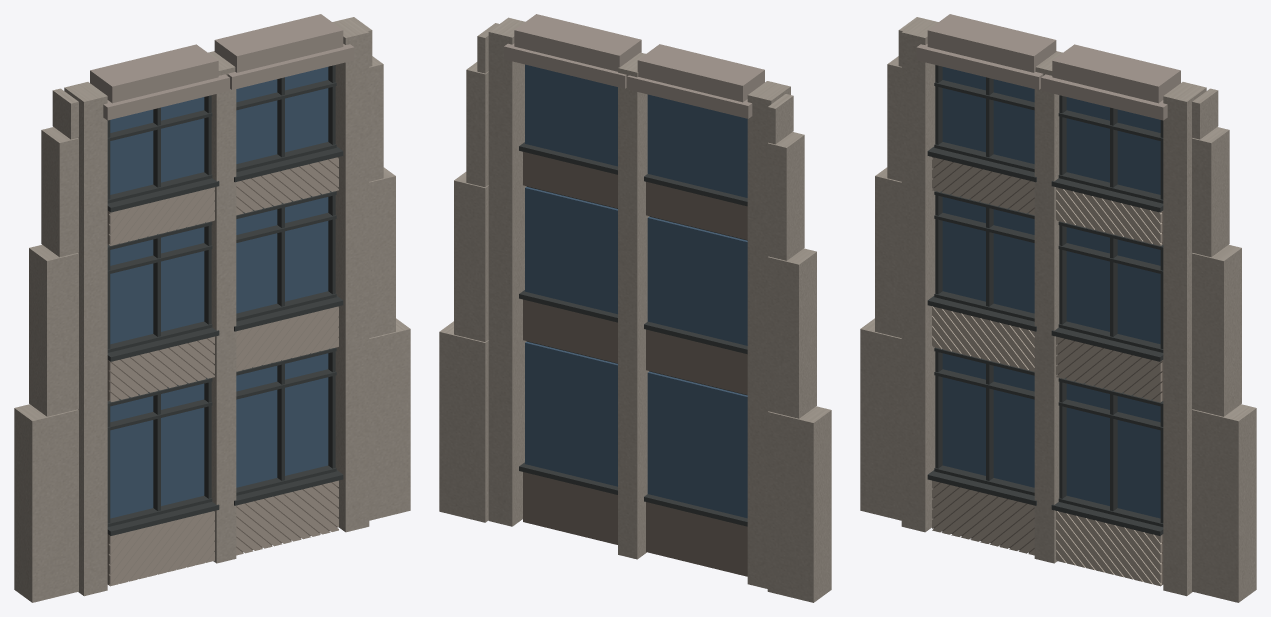
File: huangpu-lawyers-club-chevron-spandrels-lod.glb
3 views of the same model, side by side, from view 1: azimuth 30°, elevation 25°; view 2: azimuth 150°, elevation 25°; view 3: azimuth 330°, elevation 25° (orthographic).
Visible parts, largest first — view 1: 上海律师公会会所双列钢窗与人字纹窗裙; view 2: 上海律师公会会所双列钢窗与人字纹窗裙; view 3: 上海律师公会会所双列钢窗与人字纹窗裙.
Part boxes in pixels (<box>): 上海律师公会会所双列钢窗与人字纹窗裙: <box>14,14,410,602</box>; 上海律师公会会所双列钢窗与人字纹窗裙: <box>439,14,831,602</box>; 上海律师公会会所双列钢窗与人字纹窗裙: <box>860,14,1256,602</box>.
Bounding box in the file's own units: 3.34 × 4.25 × 0.427.
6 materials, 1 textured.
